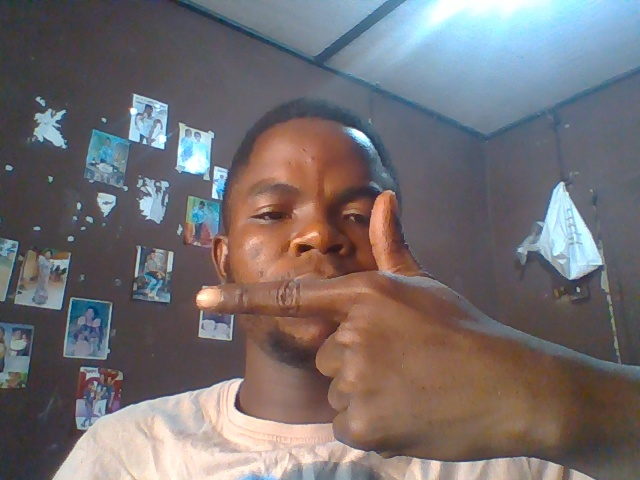Right: (186, 186, 561, 469)
